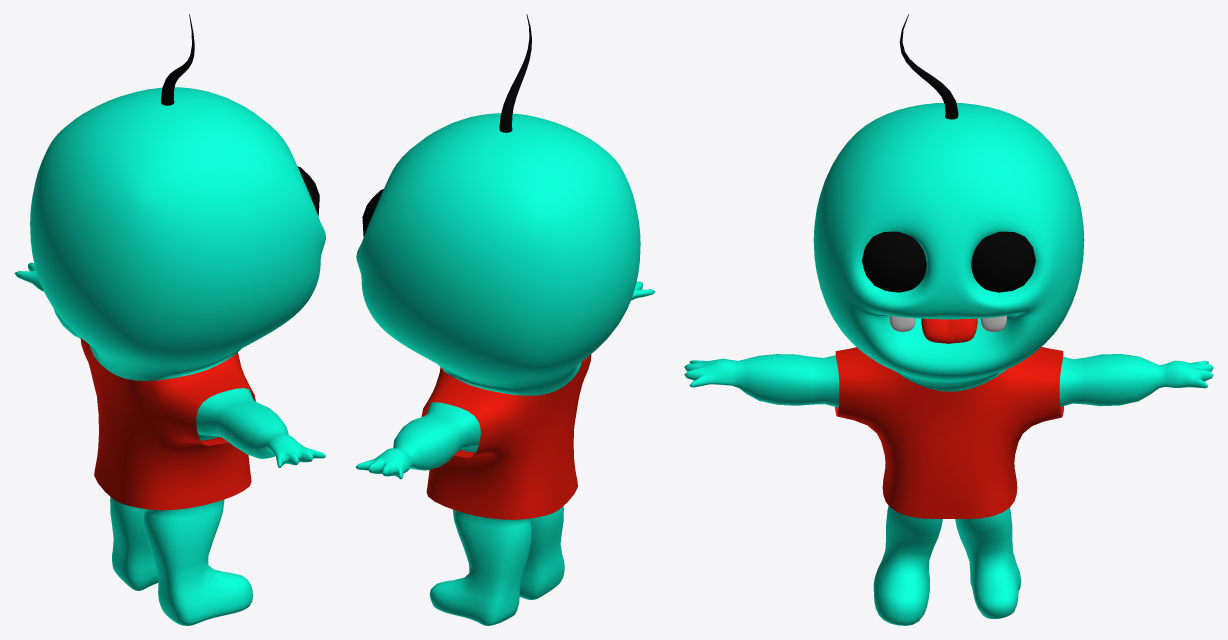
The model's file is Personajillo.fbx.
3 renders of one model, left to right at view 1: azimuth 30°, elevation 25°; view 2: azimuth 150°, elevation 25°; view 3: azimuth 270°, elevation 25°, orthographic. The views are drawn at different scales.
Visible parts, largest first — view 1: Cube; view 2: Cube; view 3: Cube.
Boxes of the visible parts, left/top/right/bottom form: Cube: left=14, top=14, right=326, bottom=625; Cube: left=355, top=14, right=655, bottom=625; Cube: left=684, top=14, right=1213, bottom=625.
Size of the model in its own units: 296 by 690 by 559.
